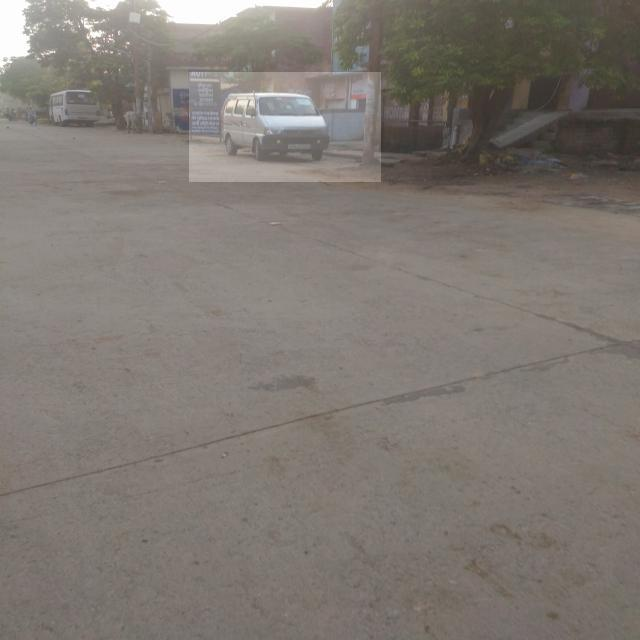Travller: (189, 72, 381, 182)
